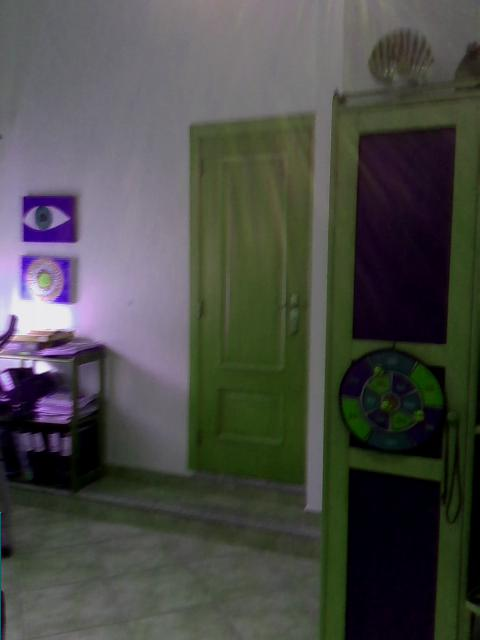closed_door: (183, 111, 314, 481)
